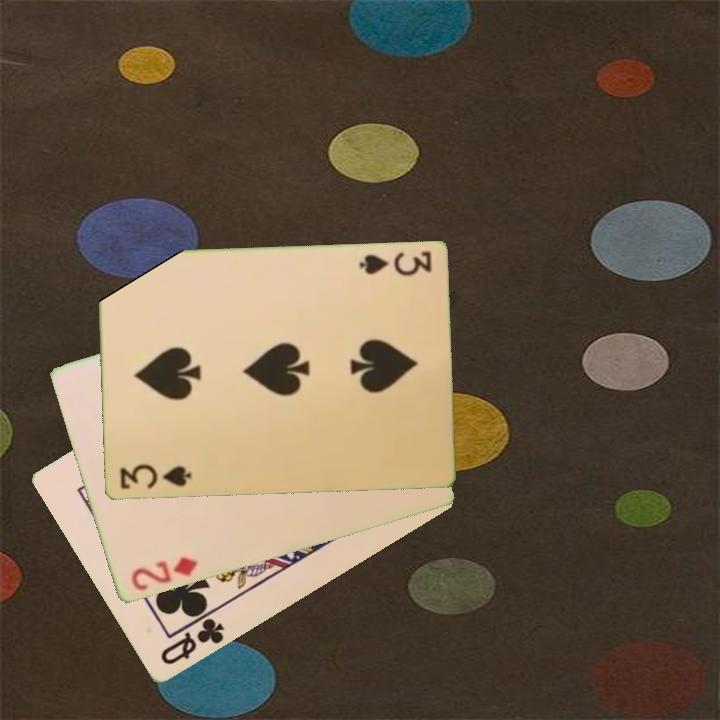2d: (127, 554, 201, 594)
3s: (116, 461, 194, 493), (355, 248, 434, 279)
Qc: (156, 608, 228, 669)
